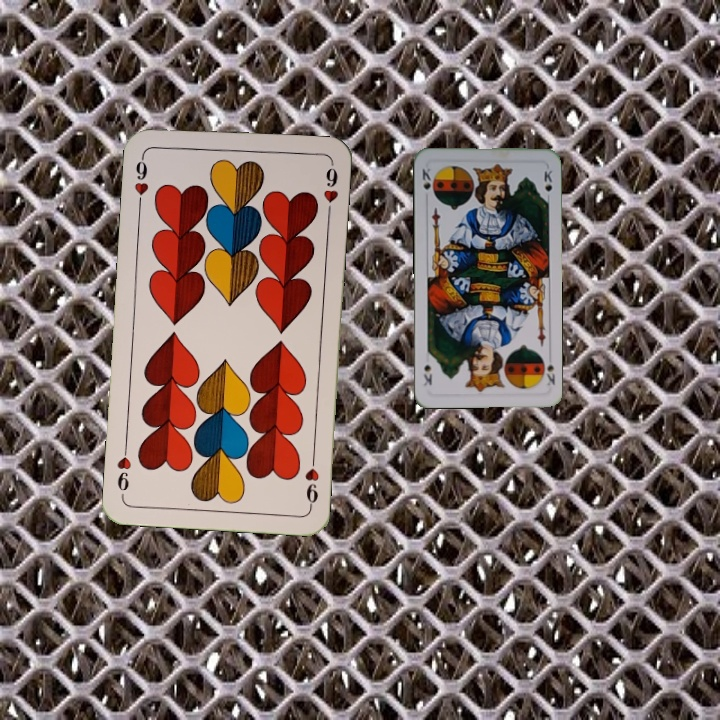H9: (301, 451, 322, 510), (130, 150, 151, 209)
SK: (541, 360, 558, 388), (418, 164, 433, 192)
